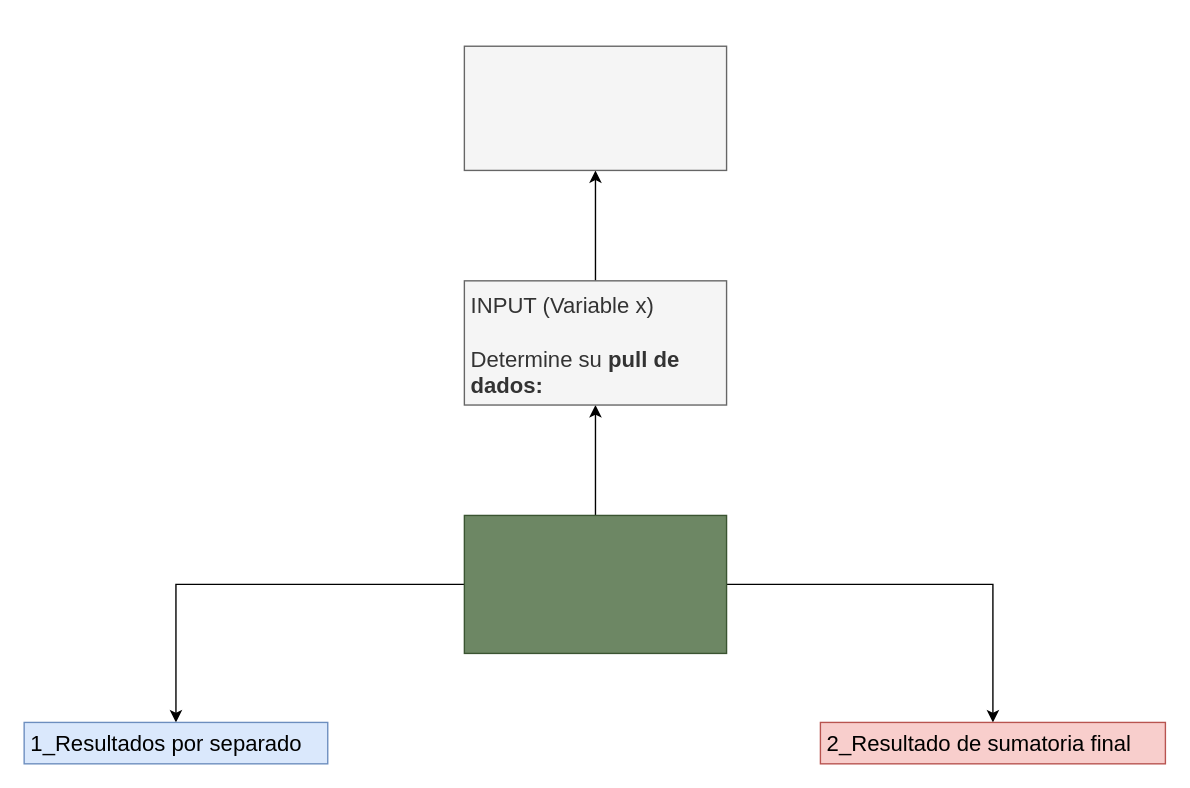
Image size: 1190x788. Some labels were removed from this diagram. The shapes that lost their labels are listed below. From the top down, each one's centre as x and y in pixels, then its label:
At (x=595, y=107): "INPUT (Variable n) Determine la cantidad de caras :".
At (x=595, y=583): "¿Qué tipo de tirada desea obtener?".
